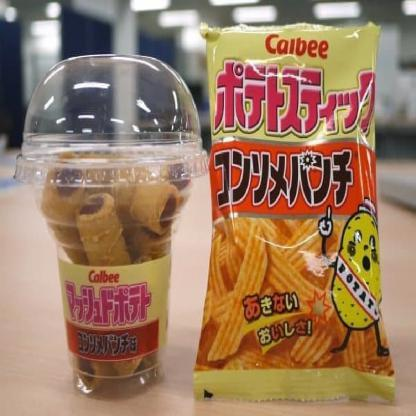potatochip: (195, 14, 400, 411)
